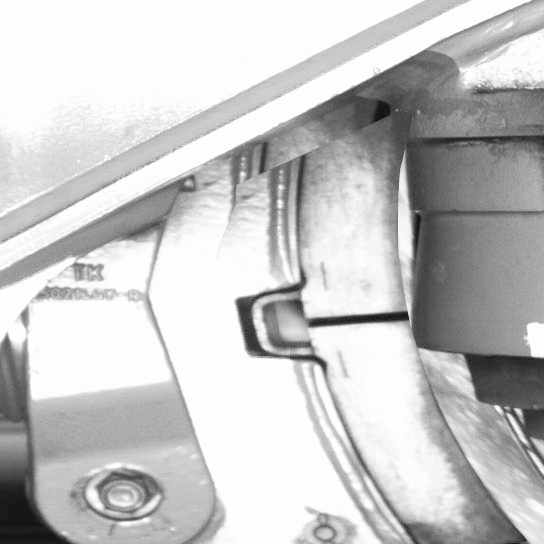ClosedKnifeSwitch: (302, 137, 531, 542)
